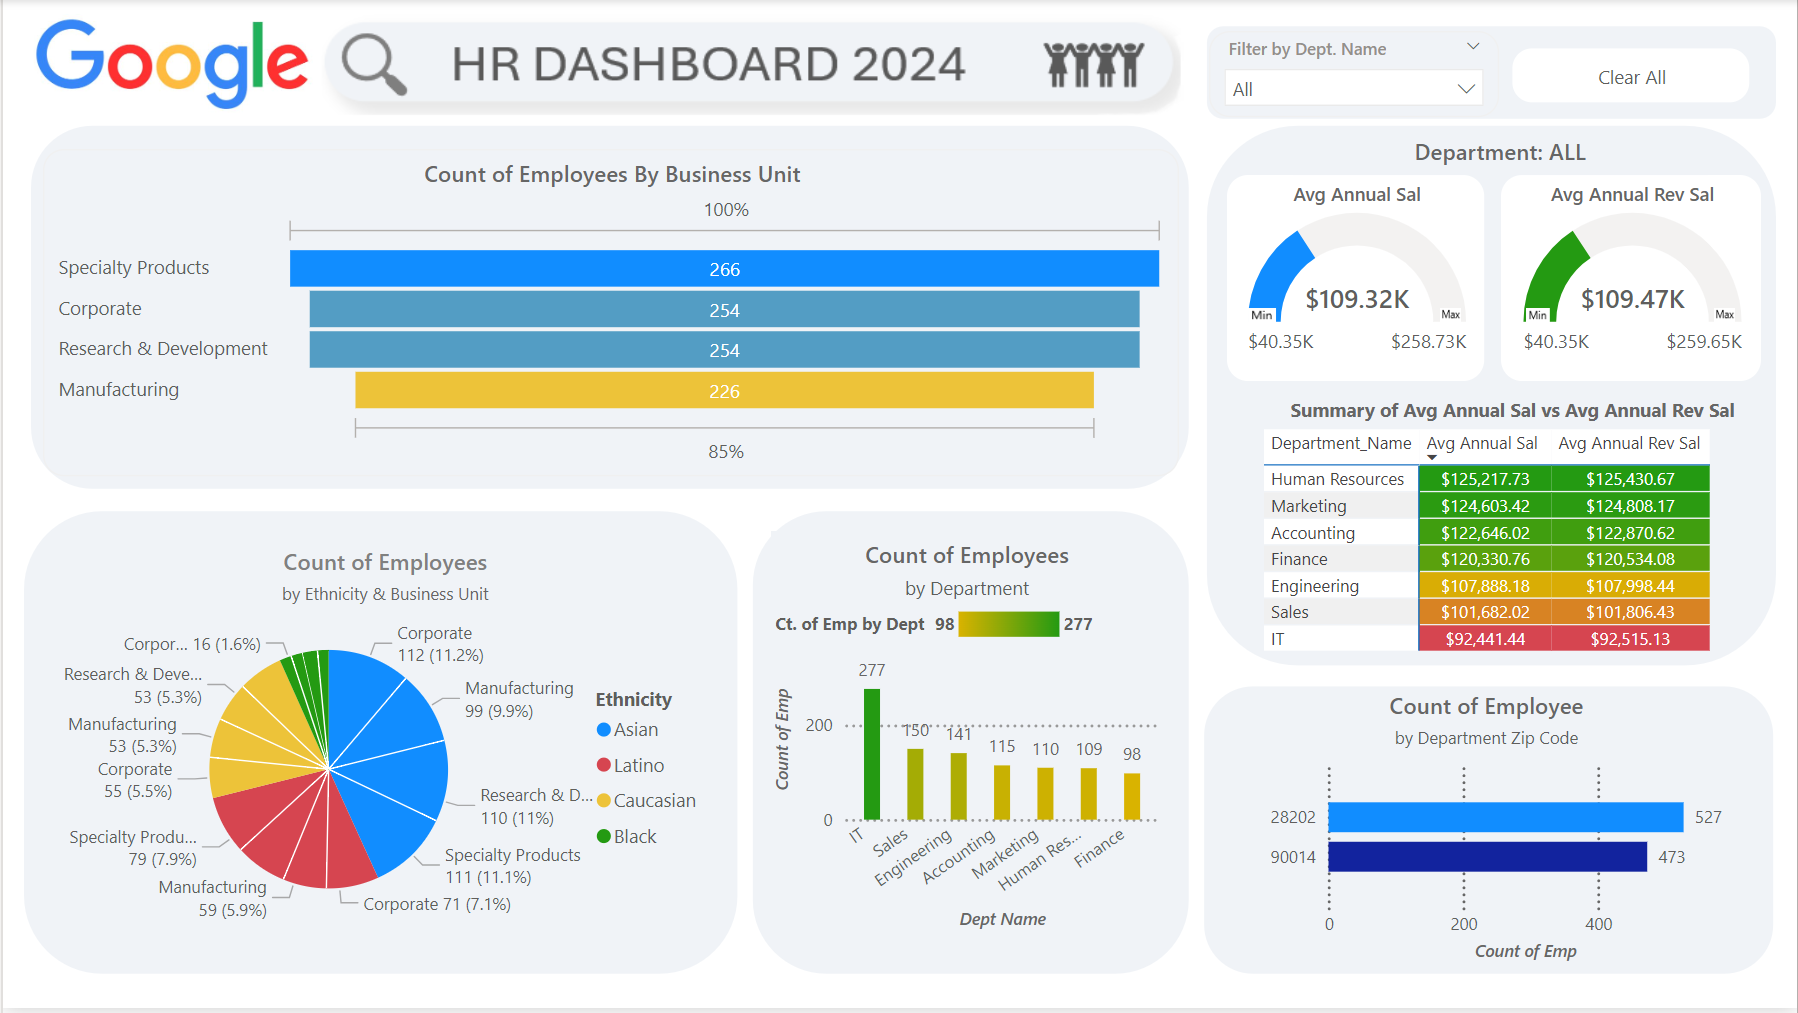

What the dashboard file says about the page in this screenshot:
{"tool":"powerbi","page":{"name":"Page 1","canvas":[1280,720],"ordinal":0},"visuals":[{"type":"image","box":[1216.7,215.4,25,20.1],"z":0,"group":"g1"},{"type":"pieChart","title":"Count of Employees","fields":{"Category":["Emp_Direct.Ethnicity"],"Y":["CountNonNull(Emp_Direct.Employee_ID)"],"Series":["Emp_Direct.Business_Unit"]},"box":[27.1,379.6,489.5,295.4],"z":0},{"type":"image","box":[883.5,215.4,29.9,20.1],"z":1000,"group":"g1"},{"type":"funnel","title":"Count of Employees By Business Unit","fields":{"Category":["Emp_Direct.Business_Unit"],"Y":["CountNonNull(Emp_Direct.Employee_ID)"]},"box":[28,106.6,810.4,233.7],"z":1000},{"type":"image","box":[1081.2,215.4,26.8,20.1],"z":2000,"group":"g1"},{"type":"gauge","title":"Avg Annual Sal","fields":{"Y":["Avg(Emp_Direct.Annual_Salary)"]},"box":[873.1,125.2,183.5,146.8],"z":2000},{"type":"image","box":[1020.8,215.4,25,20.1],"z":3000,"group":"g1"},{"type":"pivotTable","title":"Summary of Avg Annual Sal vs Avg Annual Rev Sal","fields":{"Values":["Avg(Emp_Direct.Annual_Salary)","Avg(Emp_Direct.Revised Sal)"],"Rows":["Emp_Direct.Department_Name"]},"box":[894.8,284.6,364.7,202.8],"z":3000},{"type":"clusteredBarChart","title":"Count of Employee","fields":{"Y":["CountNonNull(Emp_Direct.Employee_ID)"],"Category":["Emp_Direct.Dept_Zip"]},"box":[874.2,492.6,367.4,198.9],"z":4000},{"type":"gauge","title":"Avg Annual Rev Sal","fields":{"Y":["Avg(Emp_Direct.Revised Sal)"]},"box":[1068.5,125.2,185.6,146.8],"z":5000},{"type":"clusteredColumnChart","title":"Count of Employees","fields":{"Category":["Emp_Direct.Department_Name"],"Y":["CountNonNull(Emp_Direct.Employee_ID)"]},"box":[548,379.6,279.7,294],"z":6000},{"type":"slicer","fields":{"Values":["Emp_Direct.Department_Name"]},"box":[861.1,22.2,206.9,61.6],"z":7000},{"type":"image","box":[0,0,236.2,87.8],"z":8000},{"type":"image","box":[218.1,5.2,629,82.8],"z":9000},{"type":"actionButton","title":"Clear All","box":[1076.3,33.6,171.1,40.4],"z":10000},{"type":"card","fields":{"Values":["Emp_Direct.Label_Dept_Name"]},"box":[920.6,95,295.7,30.2],"z":11000},{"type":"group","id":"g1","title":"Group 1","box":[883.5,215.4,358.2,20.1],"z":15002}]}

Visuals, with their boxes in screenshot pixels (x1, y1, x2, y2), scaled from the page's 1280x720 canvas onto the 1798x1013 screenshot:
image: <box>1709,303,1744,331</box>
"Count of Employees" pieChart: <box>38,534,726,950</box>
image: <box>1241,303,1283,331</box>
"Count of Employees By Business Unit" funnel: <box>39,150,1178,479</box>
image: <box>1519,303,1556,331</box>
"Avg Annual Sal" gauge: <box>1226,176,1484,383</box>
image: <box>1434,303,1469,331</box>
"Summary of Avg Annual Sal vs Avg Annual Rev Sal" pivotTable: <box>1257,400,1769,686</box>
"Count of Employee" clusteredBarChart: <box>1228,693,1744,973</box>
"Avg Annual Rev Sal" gauge: <box>1501,176,1762,383</box>
"Count of Employees" clusteredColumnChart: <box>770,534,1163,948</box>
slicer - Emp_Direct.Department_Name: <box>1210,31,1500,118</box>
image: <box>0,0,332,124</box>
image: <box>306,7,1190,124</box>
"Clear All" actionButton: <box>1512,47,1752,104</box>
card - Emp_Direct.Label_Dept_Name: <box>1293,134,1709,176</box>
"Group 1" group: <box>1241,303,1744,331</box>
